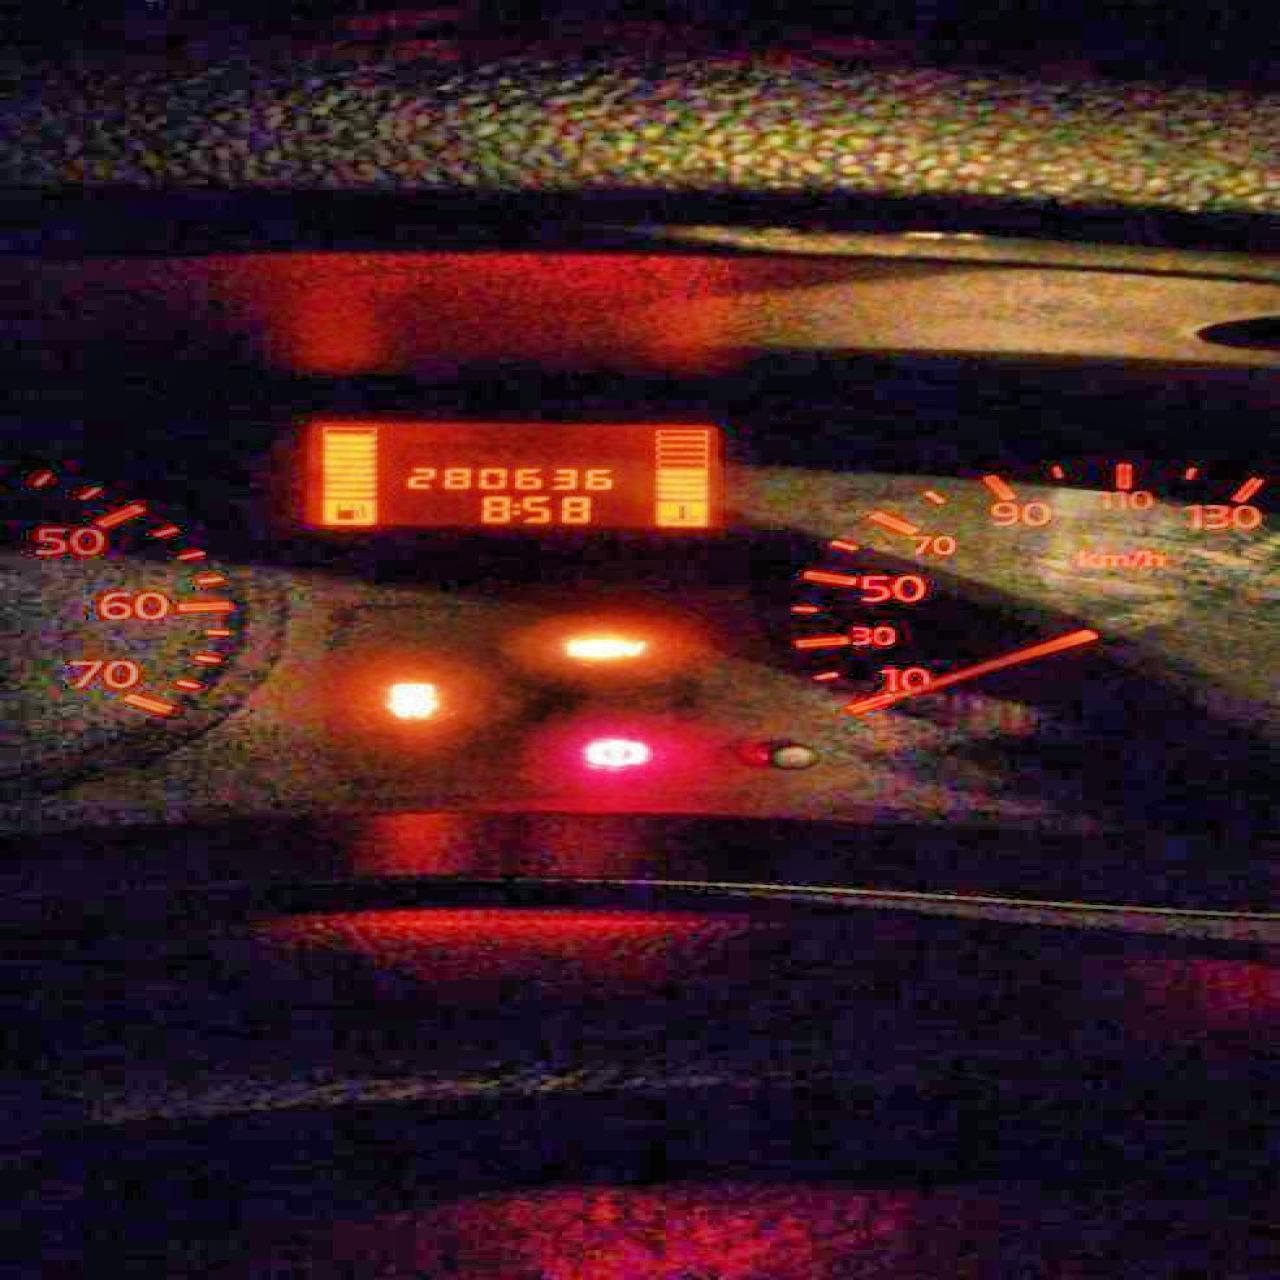0: (476, 467, 508, 489)
2: (406, 467, 437, 488)
3: (549, 468, 576, 490)
5: (520, 493, 549, 523)
6: (512, 467, 542, 489), (583, 468, 611, 490)
8: (479, 495, 510, 520), (559, 496, 587, 523), (440, 467, 471, 489)
X: (510, 502, 518, 517)
odometer: (294, 414, 726, 532)
